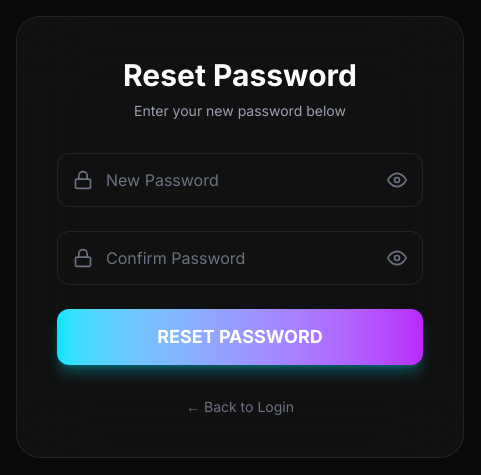
Test: ResetPasswordForm › submits successfully and shows success message
Type "newpassword123" into the password field with placeholder "New Password" at (240, 180), box x1=57 y1=153 x2=423 y2=207
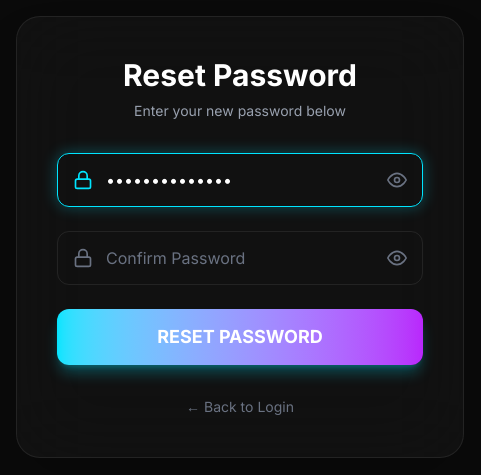
Type "newpassword123" into the password field with placeholder "Confirm Password" at (240, 258), box x1=57 y1=231 x2=423 y2=285
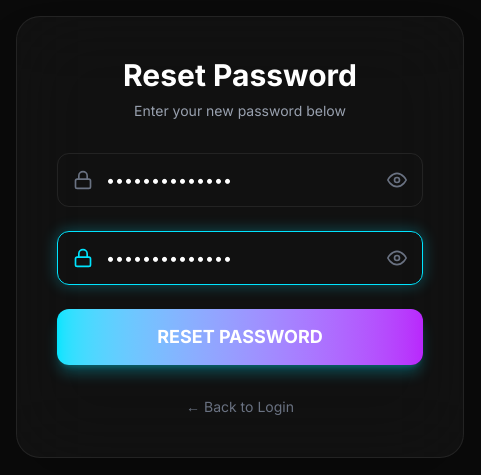
Click the button "RESET PASSWORD" at (240, 337), box x1=57 y1=309 x2=423 y2=365
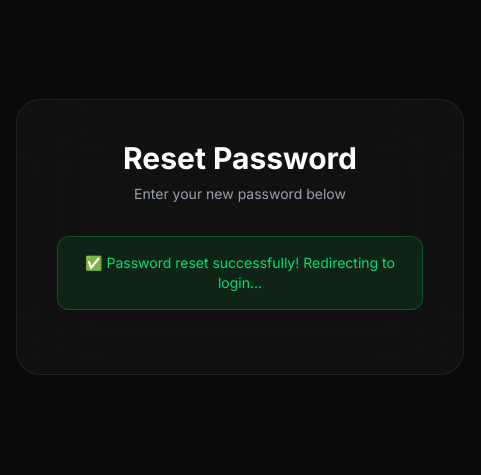
Now the text "✅ Password reset successfully! Redirecting to login..." is shown, box x1=57 y1=236 x2=423 y2=310
